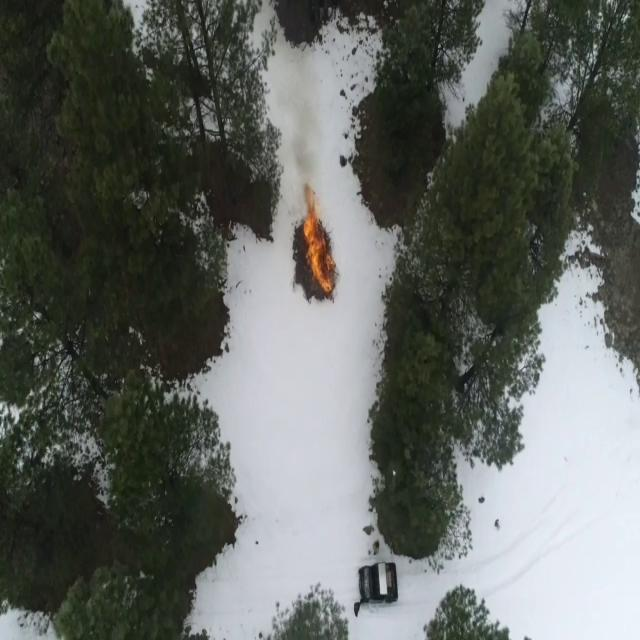fire: (304, 204, 335, 296)
